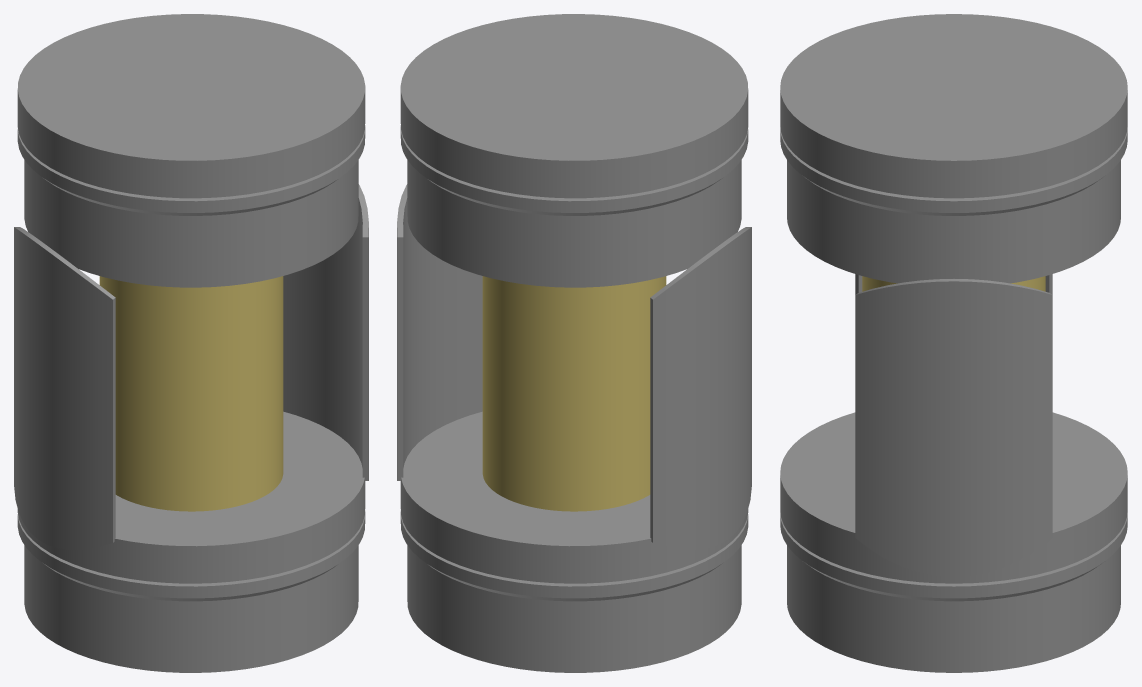
Rendered from searchlight.glb.
The picture shows the model from 3 angles, left to right: view 1: azimuth 30°, elevation 25°; view 2: azimuth 150°, elevation 25°; view 3: azimuth 270°, elevation 25°; orthographic projection.
Parts seen in each view (by area): view 1: Cylinder.004, Cylinder.006, Cylinder.002, Cylinder.005, Cylinder.003, Cylinder.001; view 2: Cylinder.004, Cylinder.006, Cylinder.002, Cylinder.005, Cylinder.003, Cylinder.001; view 3: Cylinder.006, Cylinder.004, Cylinder.005, Cylinder.003, Cylinder.001, Cylinder.002.
Boxes of the visible parts, x1,y1,x2,y2 form: Cylinder.004: [17, 14, 365, 198]; Cylinder.006: [14, 184, 368, 549]; Cylinder.002: [99, 276, 283, 511]; Cylinder.005: [17, 510, 365, 672]; Cylinder.003: [17, 125, 365, 287]; Cylinder.001: [17, 411, 365, 583]; Cylinder.004: [400, 14, 748, 198]; Cylinder.006: [397, 184, 751, 549]; Cylinder.002: [482, 276, 666, 511]; Cylinder.005: [400, 510, 748, 672]; Cylinder.003: [400, 125, 748, 287]; Cylinder.001: [400, 411, 748, 583]; Cylinder.006: [855, 274, 1052, 576]; Cylinder.004: [780, 14, 1127, 198]; Cylinder.005: [780, 513, 1127, 672]; Cylinder.003: [780, 127, 1127, 283]; Cylinder.001: [780, 412, 1127, 583]; Cylinder.002: [862, 276, 1045, 291].
Bounding box in the file's own units: 0.2703 × 0.4326 × 0.2647.
